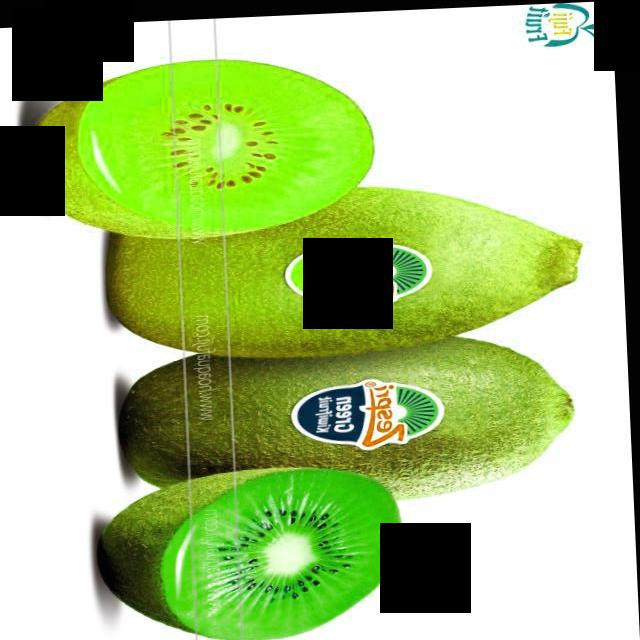kiwi: (102, 173, 597, 361), (111, 325, 580, 515)
